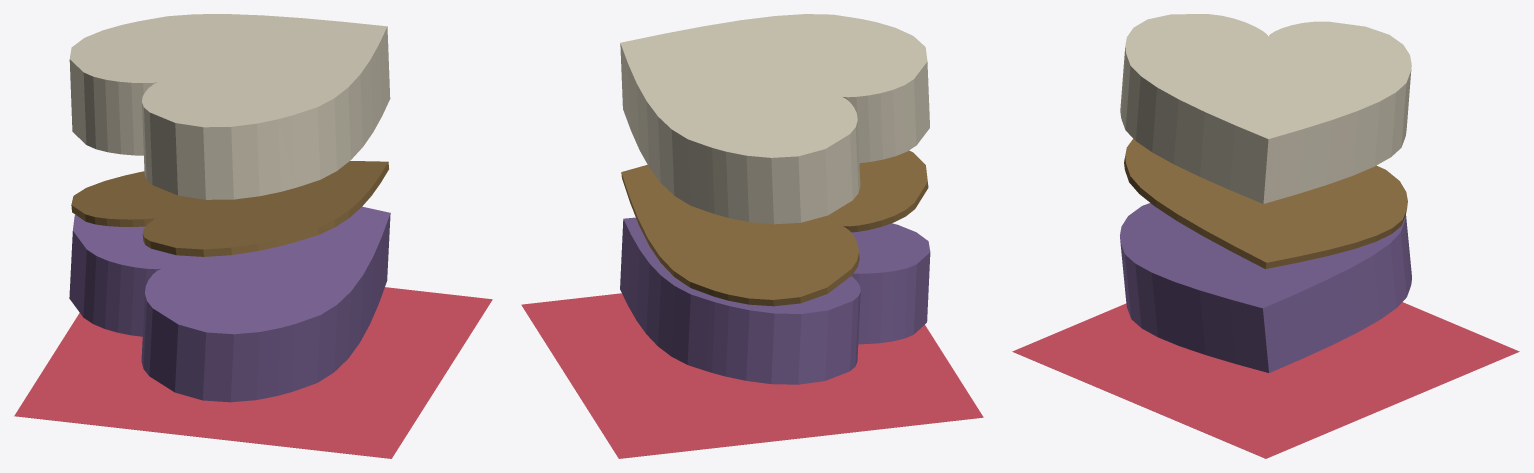
File: UCV.glb
The picture shows the model from 3 angles, left to right: view 1: azimuth 30°, elevation 25°; view 2: azimuth 150°, elevation 25°; view 3: azimuth 270°, elevation 25°; orthographic projection. The views are drawn at different scales.
Parts seen in each view (by area): view 1: Mesh_Mesh_head_geo.001_lambert2SG.001; view 2: Mesh_Mesh_head_geo.001_lambert2SG.001; view 3: Mesh_Mesh_head_geo.001_lambert2SG.001.
Part boxes in pixels (left/top/right/bottom): Mesh_Mesh_head_geo.001_lambert2SG.001: left=14, top=14, right=492, bottom=458; Mesh_Mesh_head_geo.001_lambert2SG.001: left=521, top=14, right=983, bottom=458; Mesh_Mesh_head_geo.001_lambert2SG.001: left=1012, top=14, right=1519, bottom=458.
Bounding box in the file's own units: 0.0354 × 0.0217 × 0.0354.
